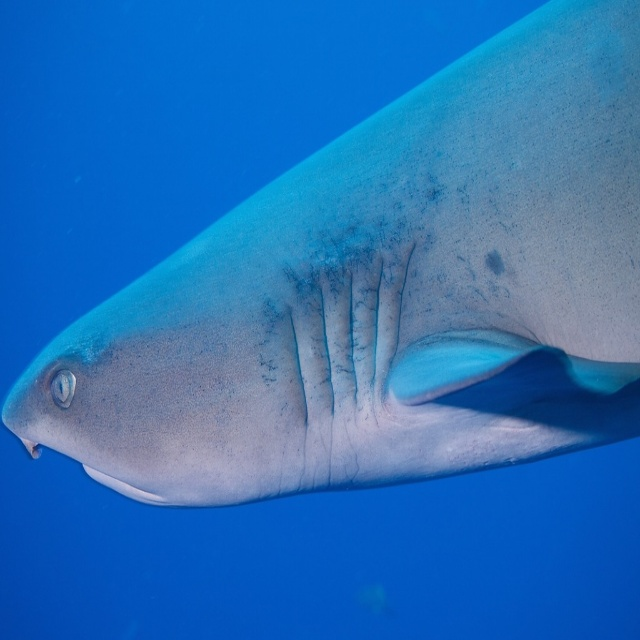Shark: (4, 0, 640, 507)
